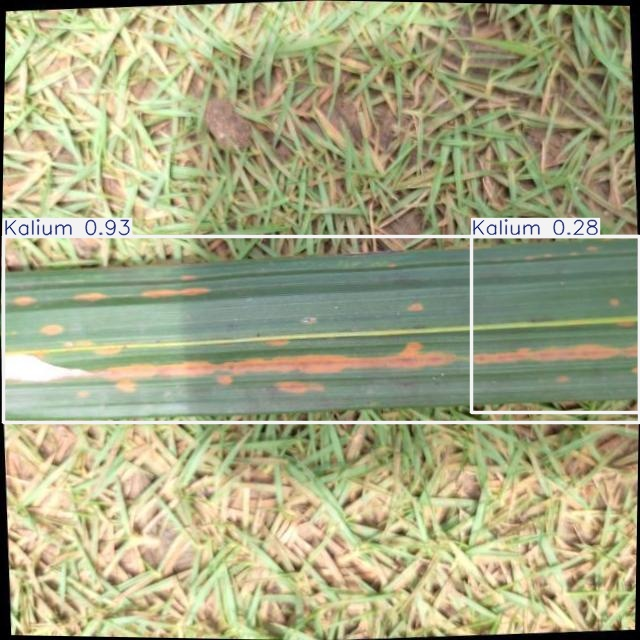Kalium: (3, 237, 639, 423), (472, 236, 640, 412)
